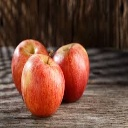apple: (11, 39, 50, 99)
